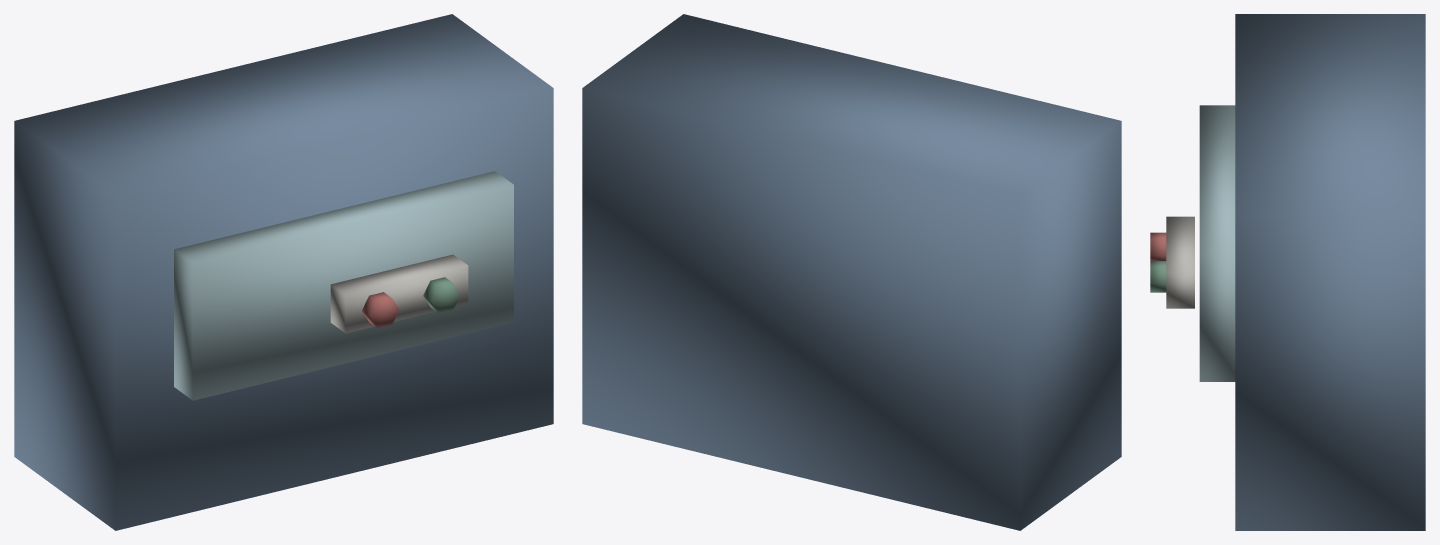
File: price_checker.glb
3 views of the same model, side by side, from view 1: azimuth 30°, elevation 25°; view 2: azimuth 150°, elevation 25°; view 3: azimuth 270°, elevation 25° (orthographic). The views are drawn at different scales.
Visible parts, largest first — view 1: world; view 2: world; view 3: world.
Part boxes in pixels (x1=…): world: x1=14, y1=14, x2=553, y2=530; world: x1=582, y1=14, x2=1121, y2=530; world: x1=1150, y1=14, x2=1425, y2=530.
Bounding box in the file's own units: 0.3 × 0.22 × 0.1735.
